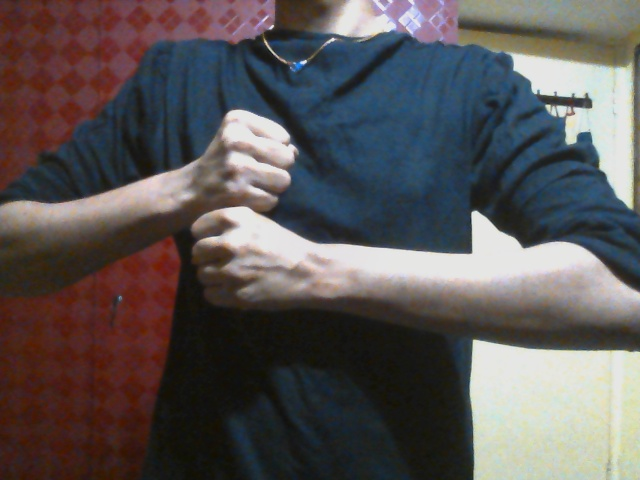G: (189, 109, 305, 315)
